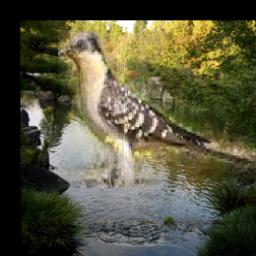Cuckoo: (58, 31, 256, 189)
